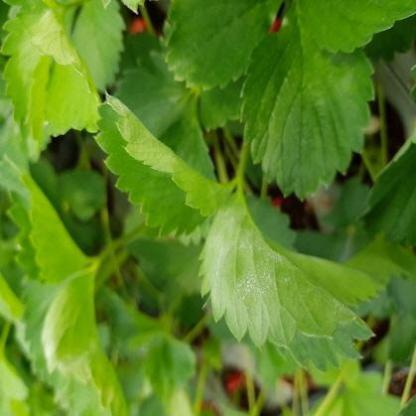Strawberry_Powdery_Mildew_Leaf: (196, 182, 377, 374), (92, 88, 237, 240)
